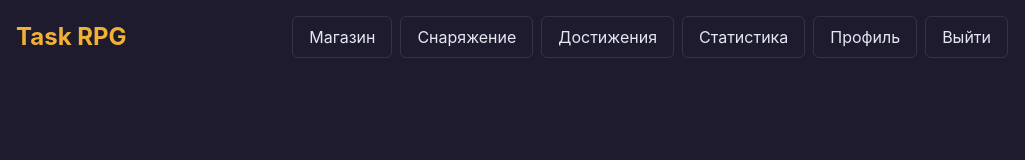
Scenario: AppHeader › stays on the page and says why when logout fails
Click the button with test id "logout": click(967, 37) [925,16,1008,58]
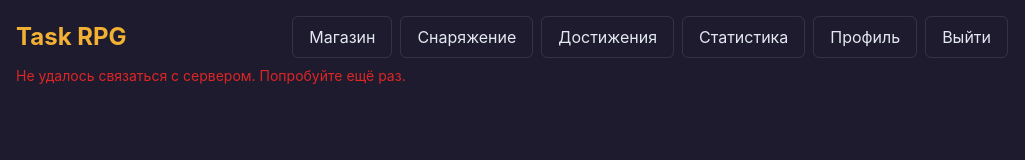
Result: the message "Не удалось связаться с сервером. Попробуйте ещё раз." is shown at [16,67,406,84]
